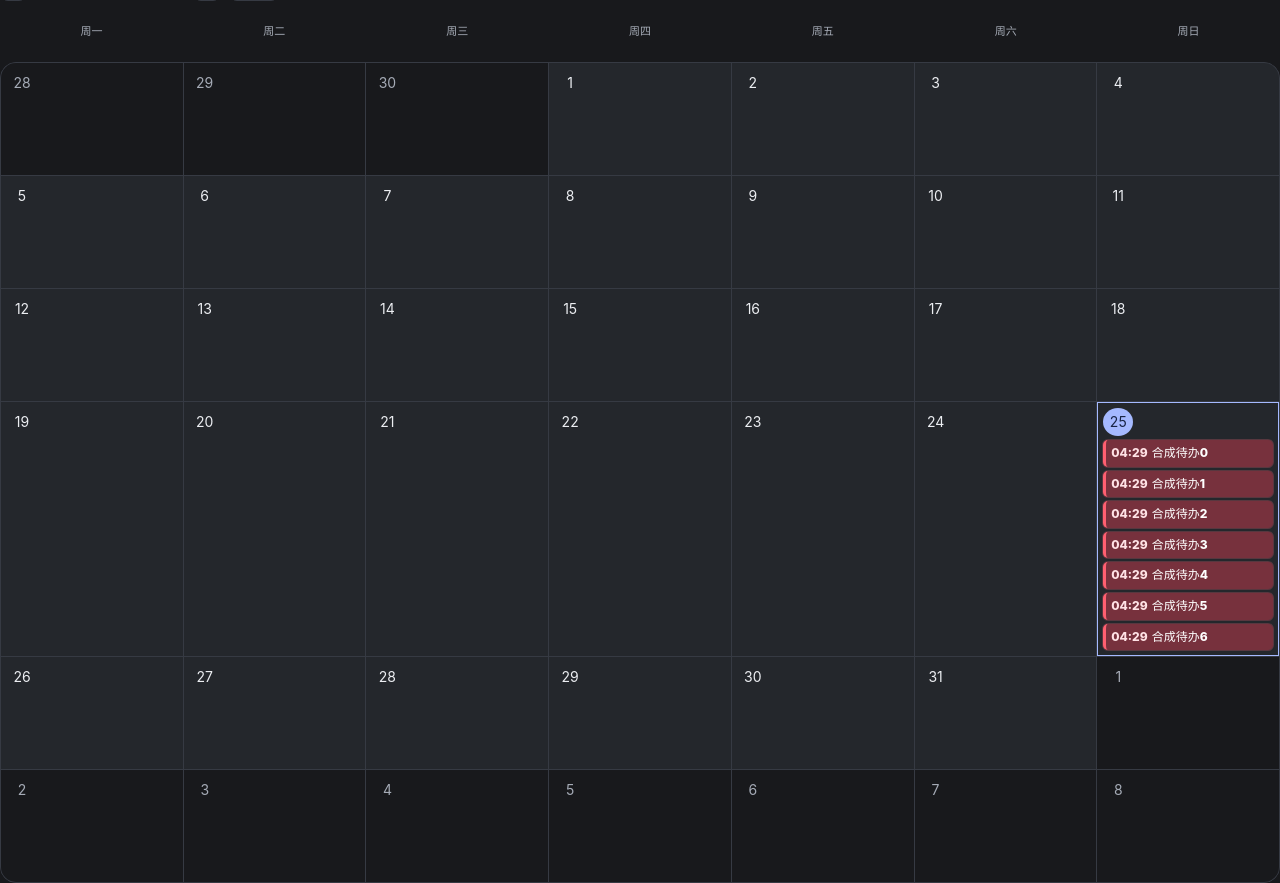
Test: calendar data coverage › shows and edits every event even when a day contains more than four
The width and height of the screenshot is (1280, 883).
(page scrolled)
Step 1. Double-click the button with class "calendar-event" showing "04:29合成待办6" → (1188, 637), box [1103,624,1273,650]
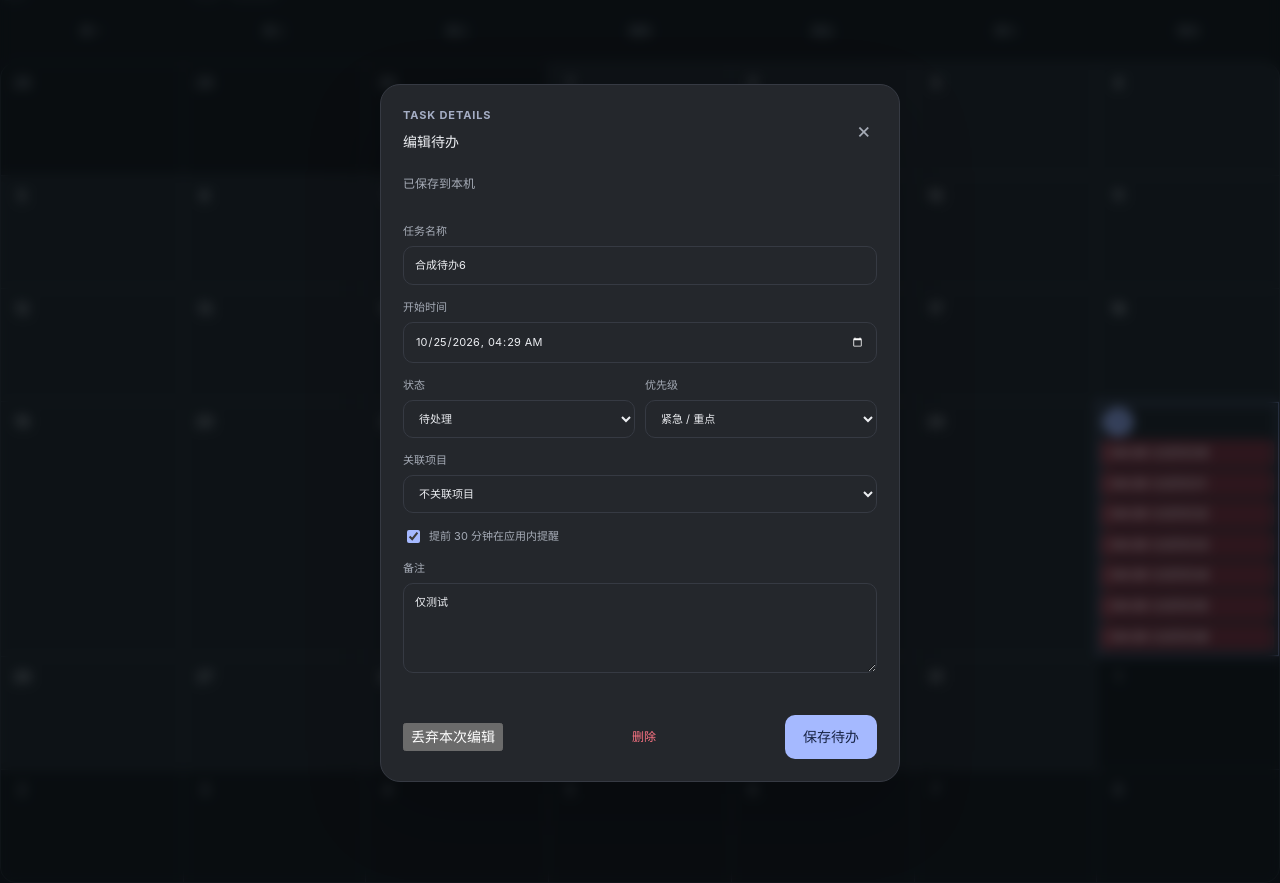
Result: the dialog "编辑待办" is shown at [380,84,900,782]
Result: the field labelled "任务名称" holds "合成待办6" at [403,246,877,285]
